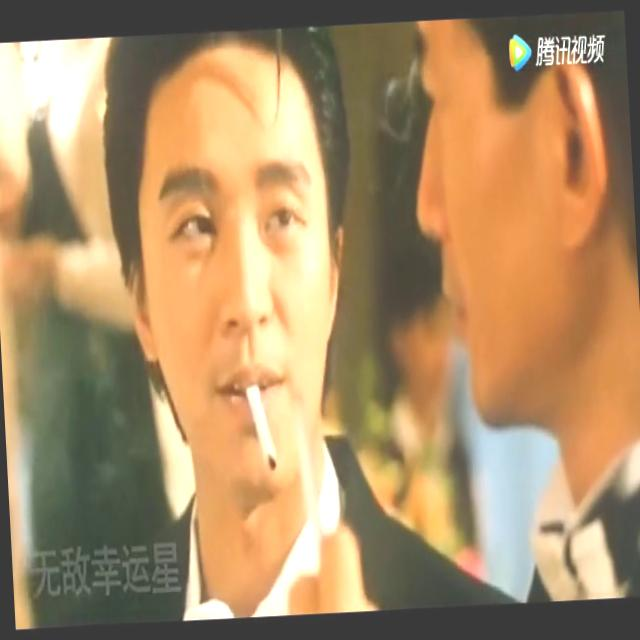smoke: (243, 384, 280, 474)
